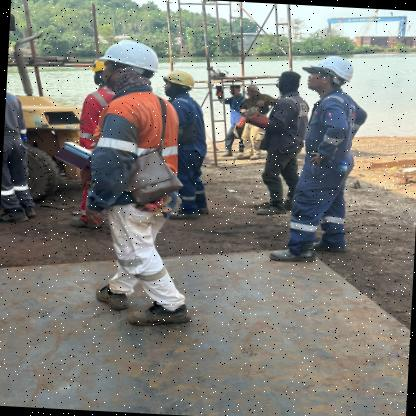bota: (124, 300, 194, 328), (92, 281, 133, 312), (267, 242, 314, 266), (66, 214, 104, 231), (0, 205, 29, 223), (312, 240, 348, 254), (166, 208, 202, 222), (254, 201, 284, 217), (218, 145, 234, 157), (195, 204, 210, 216), (235, 152, 251, 160), (249, 154, 260, 161)
